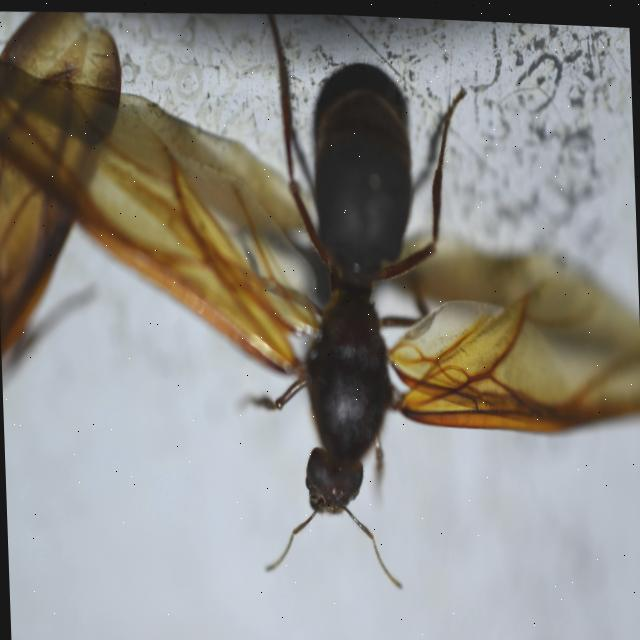Alive-Female-Alate: (0, 0, 640, 609)
